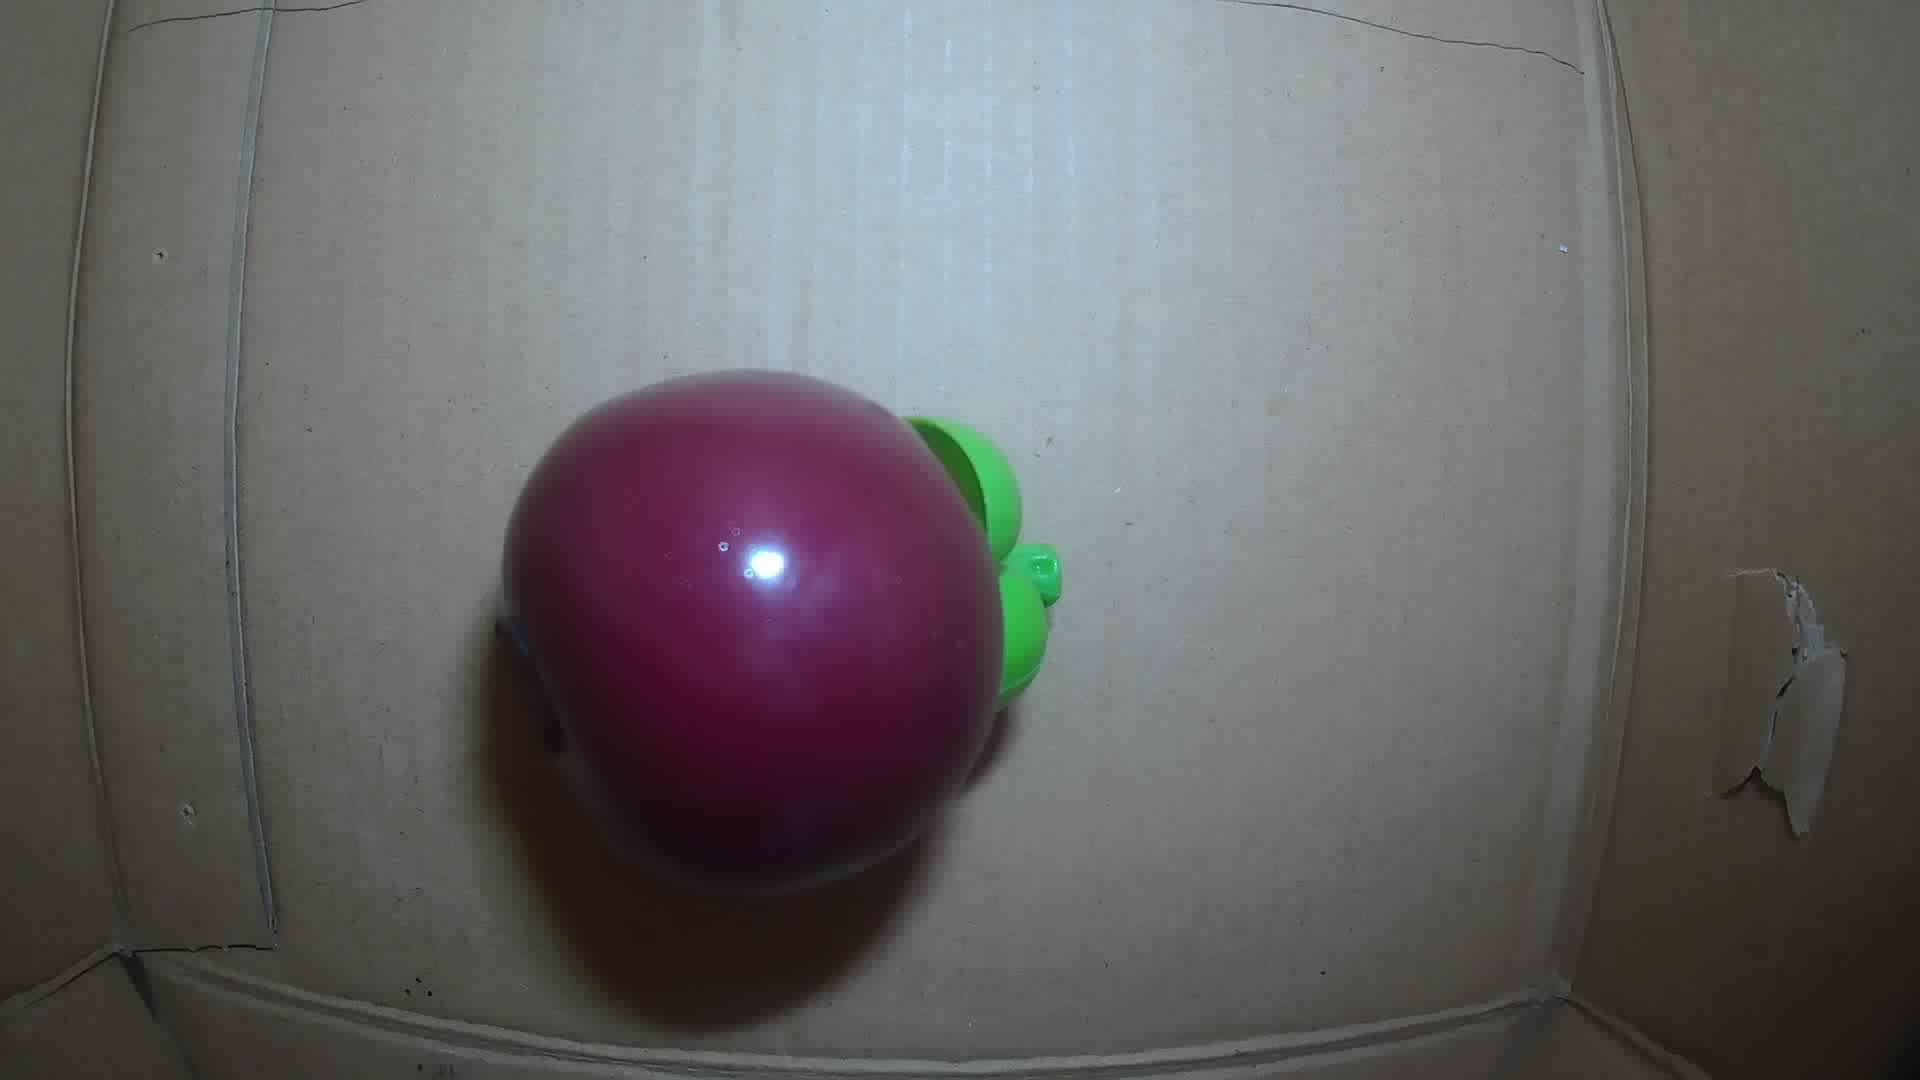mangosteen: (491, 368, 1067, 895)
